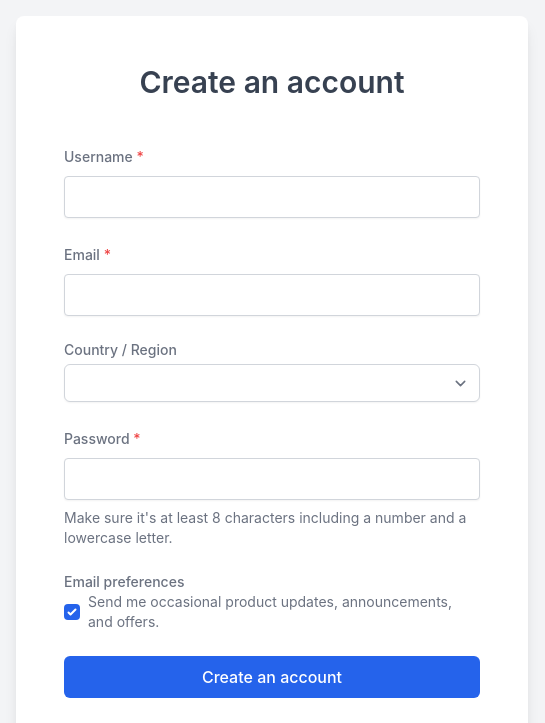
Test case: shows an error messages when create account is clicked and no username, email and password are provided
The width and height of the screenshot is (545, 723).
// update all required fields and submit button
Click the button "Create an account" at (272, 677), box [64,656,480,698]
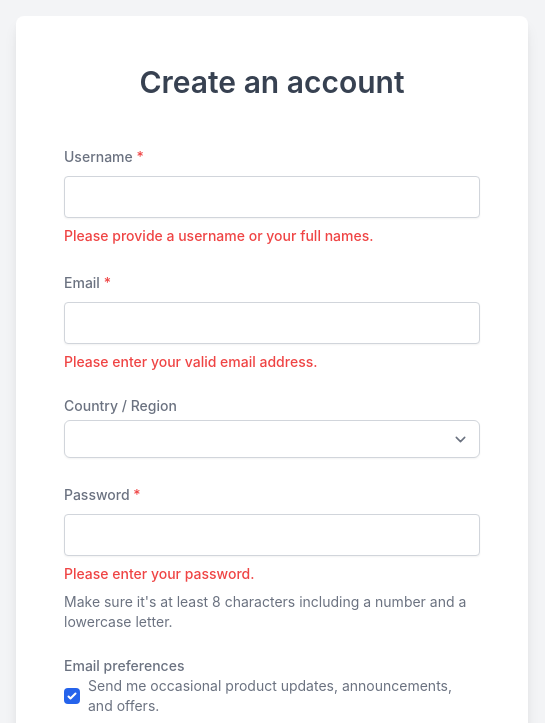
Now the text with test id "username__error" shows "Please provide a username or your full names", box [64,227,374,244]
Now the text with test id "email__error" shows "Please enter your valid email address", box [64,353,318,370]
Now the text with test id "password__error" shows "Please enter your password", box [64,565,254,582]
